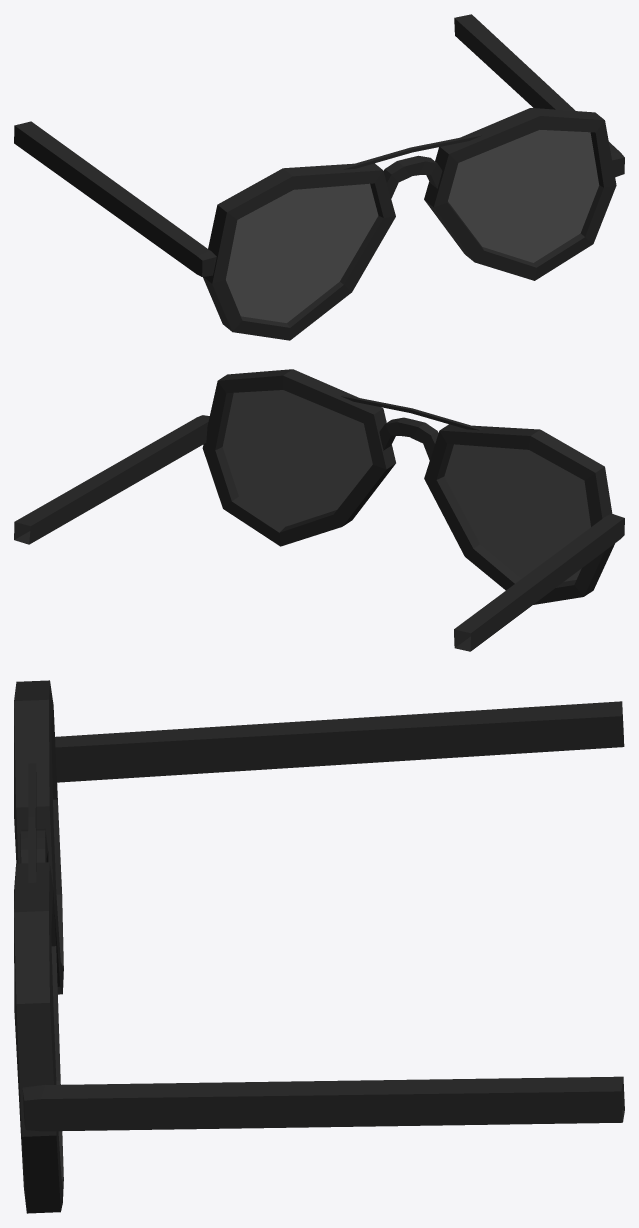
The model's file is Police_M_SunGlasses.fbx.
3 views of the same model, one above another, from view 1: azimuth 30°, elevation 25°; view 2: azimuth 150°, elevation 25°; view 3: azimuth 270°, elevation 25° (orthographic). The views are drawn at different scales.
Parts seen in each view (by area): view 1: Police_M_SunGlasses; view 2: Police_M_SunGlasses; view 3: Police_M_SunGlasses.
Boxes of the visible parts, <box> form: Police_M_SunGlasses: <box>14,14,624,340</box>; Police_M_SunGlasses: <box>14,369,624,651</box>; Police_M_SunGlasses: <box>14,680,624,1213</box>.
Size of the model in its own units: 17.13 by 6.04 by 11.35.
